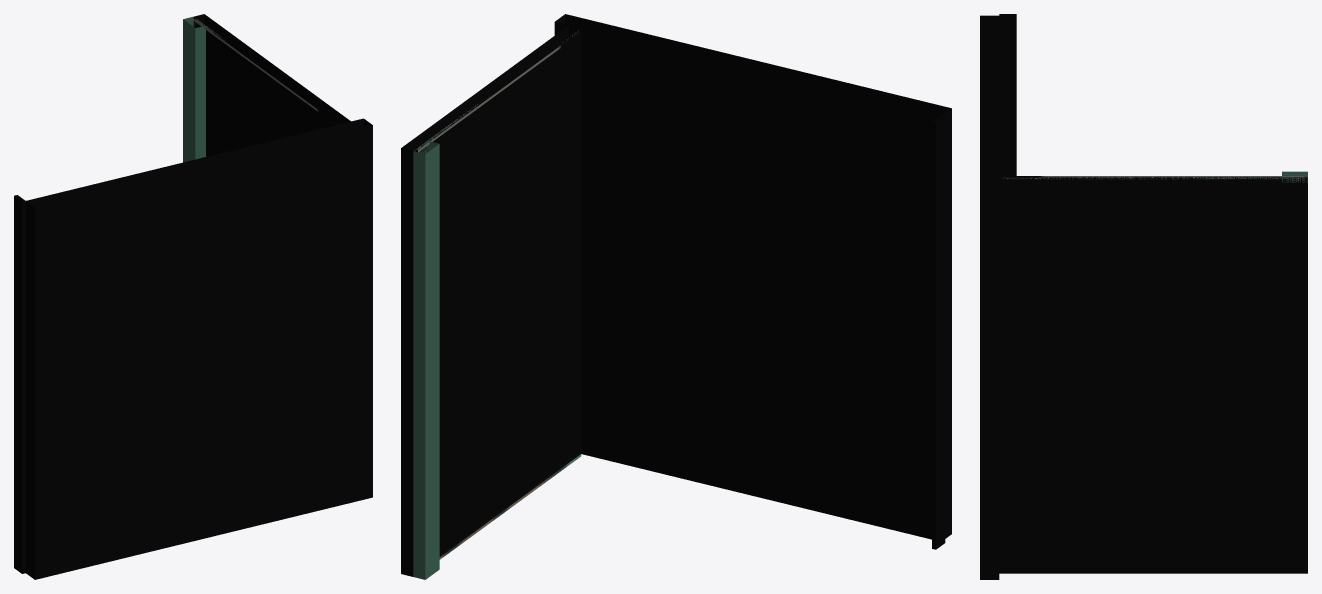
File: section-4.obj
The picture shows the model from 3 angles, left to right: view 1: azimuth 30°, elevation 25°; view 2: azimuth 150°, elevation 25°; view 3: azimuth 270°, elevation 25°; orthographic projection. The views are drawn at different scales.
Size of the model in its own units: 0.96 by 1 by 0.76.
